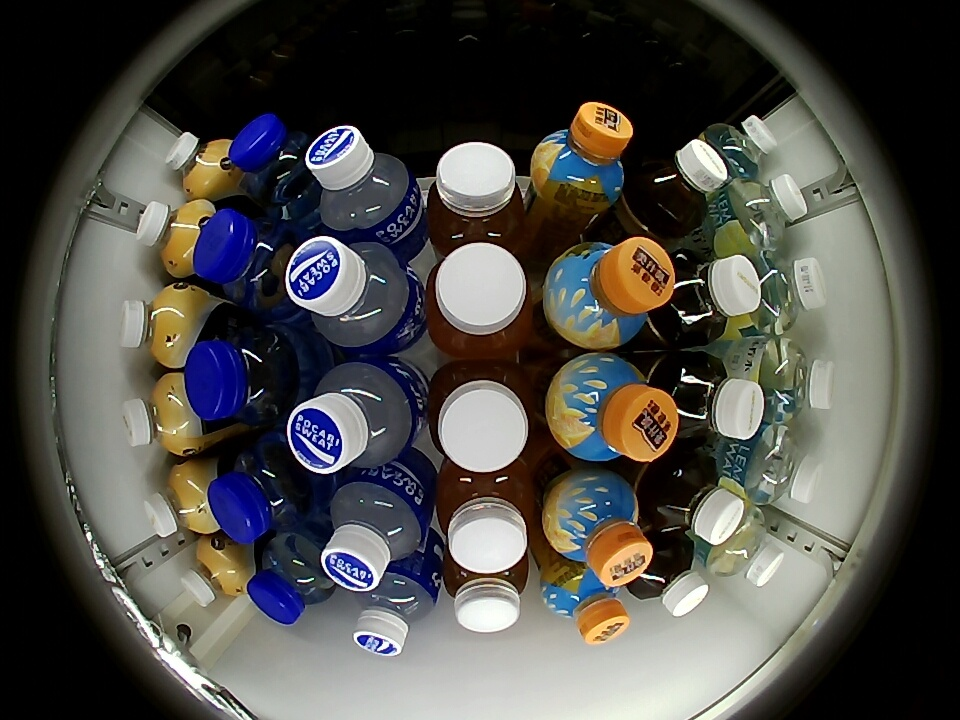asamu: (117, 285, 195, 367), (121, 374, 198, 456), (135, 199, 214, 276), (143, 463, 218, 538), (179, 540, 247, 607), (164, 130, 232, 197)
baokuangli: (285, 235, 421, 355), (286, 358, 423, 474), (320, 471, 430, 592), (304, 125, 418, 241), (354, 563, 440, 656)
chapai: (426, 243, 534, 357), (428, 361, 534, 473), (435, 464, 534, 573), (426, 143, 524, 250), (444, 552, 529, 633)
guolicheng: (544, 237, 674, 349), (546, 354, 679, 463), (543, 472, 652, 586), (531, 102, 631, 211), (540, 557, 629, 644)
maidong: (185, 322, 299, 426), (208, 439, 317, 543), (194, 209, 300, 312), (247, 532, 338, 625), (229, 114, 316, 206)
qinningshui: (758, 338, 838, 422), (725, 174, 809, 251), (743, 426, 823, 506), (748, 255, 828, 335), (707, 511, 784, 586), (707, 115, 778, 179)
wulongcha: (652, 451, 746, 545), (665, 252, 761, 344), (668, 355, 765, 443), (636, 139, 728, 229), (632, 537, 708, 618)
